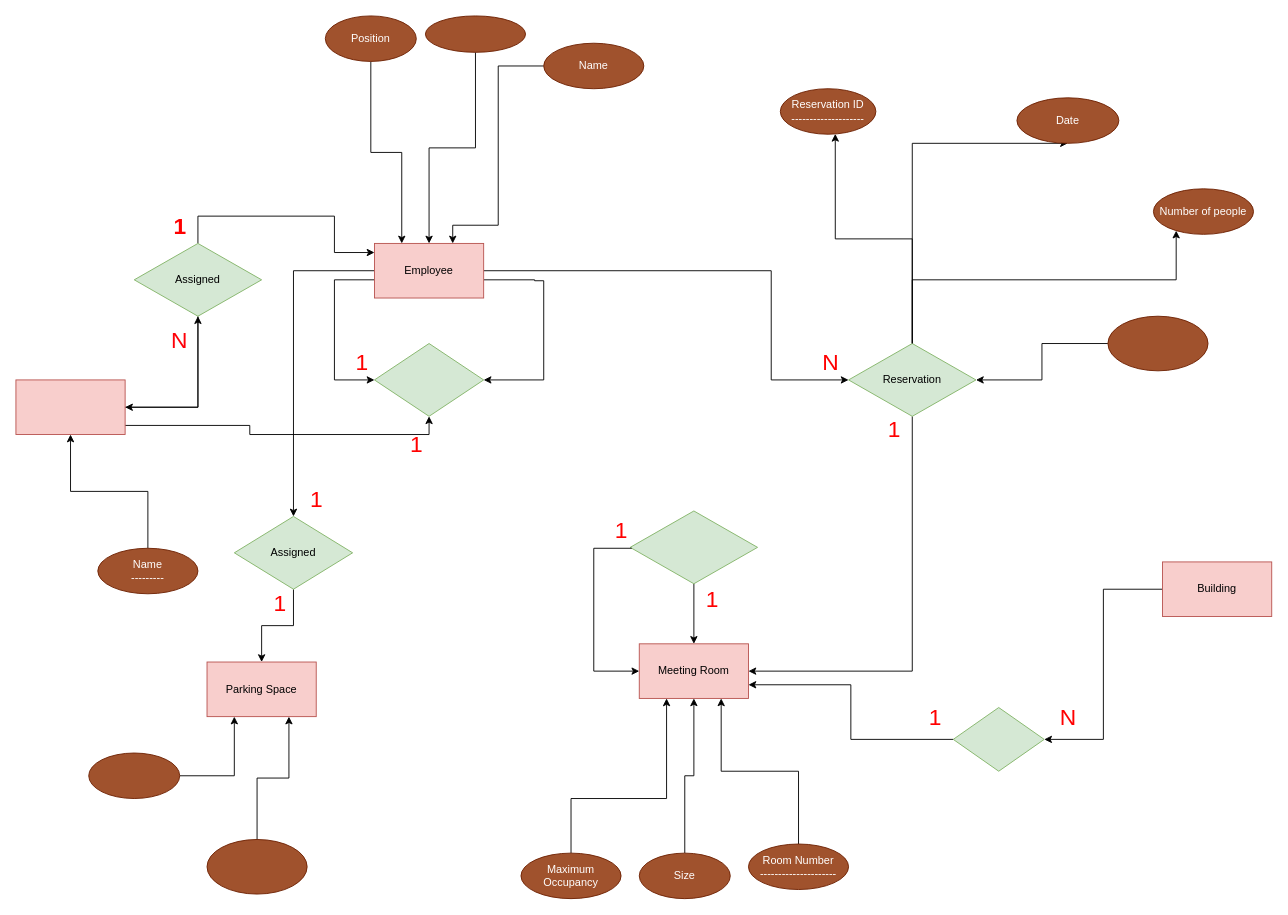
The diagram is 1288 pixels wide and 915 high, and some of its shapes have lost their labels. The shapes that lost their labels are listed below. From the top down, each one's centre as x and y in pixels, then its label:
the point at 475,33: ID ------
the point at 1157,343: Timeslot
the point at 429,379: Manager
the point at 70,407: Department
the point at 693,547: Combined
the point at 998,739: Distributed
the point at 134,775: License Plate Number
the point at 256,866: Parking Space ID -------------------------
